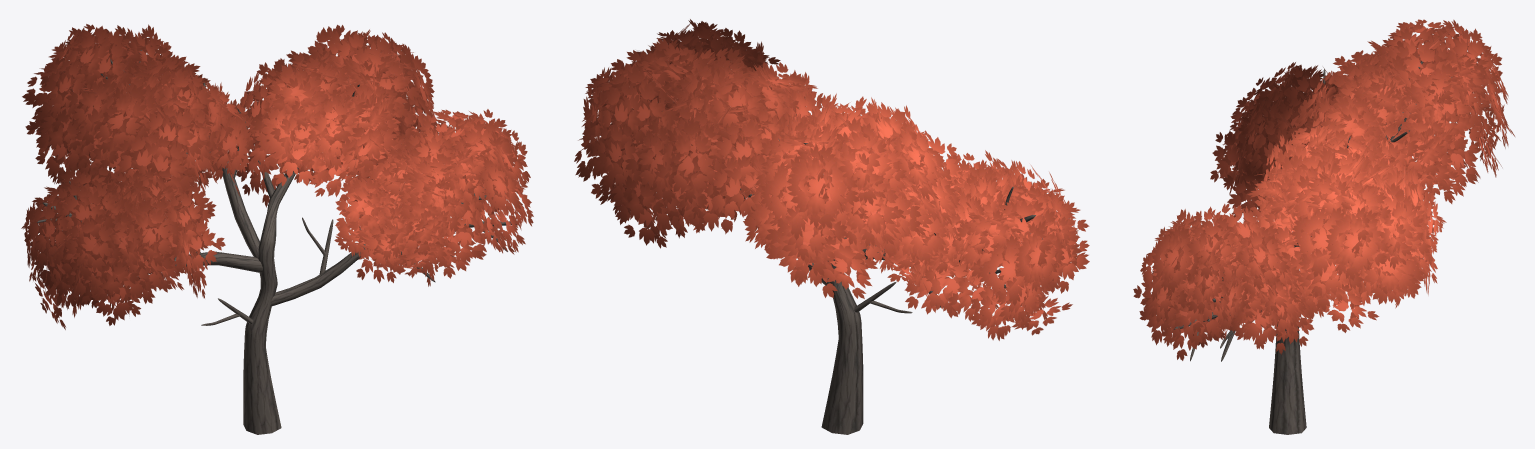
File: mapletree_3.glb
3 renders of one model, left to right at view 1: azimuth 30°, elevation 25°; view 2: azimuth 150°, elevation 25°; view 3: azimuth 270°, elevation 25°, orthographic. The views are drawn at different scales.
Parts seen in each view (by area): view 1: MapleTree_3; view 2: MapleTree_3; view 3: MapleTree_3.
Boxes of the visible parts, box(x1,y1,x2,y2) form: MapleTree_3: box(21, 24, 533, 434); MapleTree_3: box(574, 19, 1089, 434); MapleTree_3: box(1133, 19, 1514, 434).
Size of the model in its own units: 8.98 by 6.99 by 6.61.
2 materials, 2 textured.
